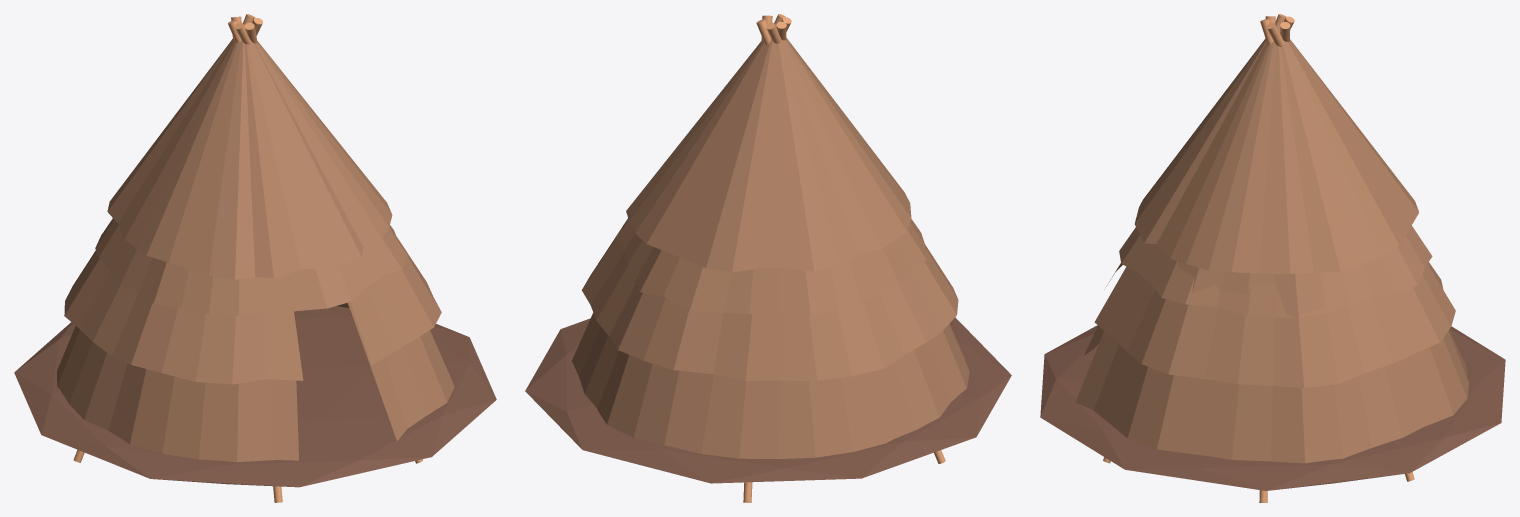
The model's file is HideTent.gltf.
The picture shows the model from 3 angles, left to right: view 1: azimuth 30°, elevation 25°; view 2: azimuth 150°, elevation 25°; view 3: azimuth 270°, elevation 25°; orthographic projection.
Visible parts, largest first — view 1: Cone.002; view 2: Cone.002; view 3: Cone.002.
Part boxes in pixels (x1=…): Cone.002: x1=14, y1=14, x2=496, y2=502; Cone.002: x1=525, y1=14, x2=1011, y2=502; Cone.002: x1=1040, y1=14, x2=1505, y2=502.
Bounding box in the file's own units: 6.19 × 5.65 × 5.95.
